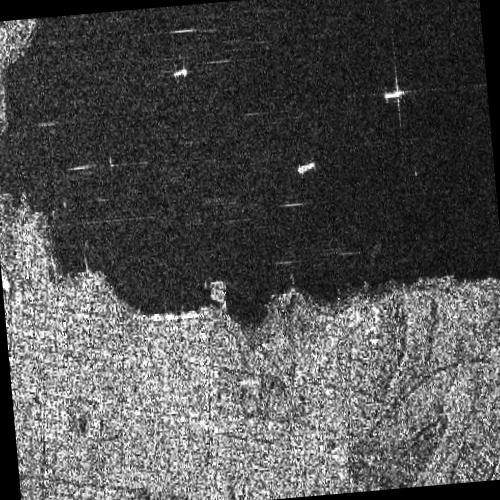ship: (297, 161, 316, 174), (384, 89, 404, 100), (173, 67, 187, 77)
